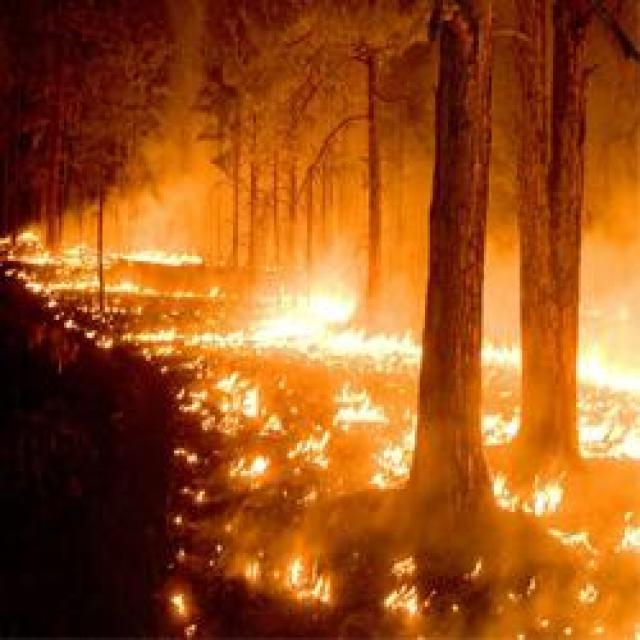Fire: (248, 277, 408, 360), (584, 283, 640, 453), (108, 245, 206, 280), (332, 379, 390, 426), (211, 370, 251, 418)
